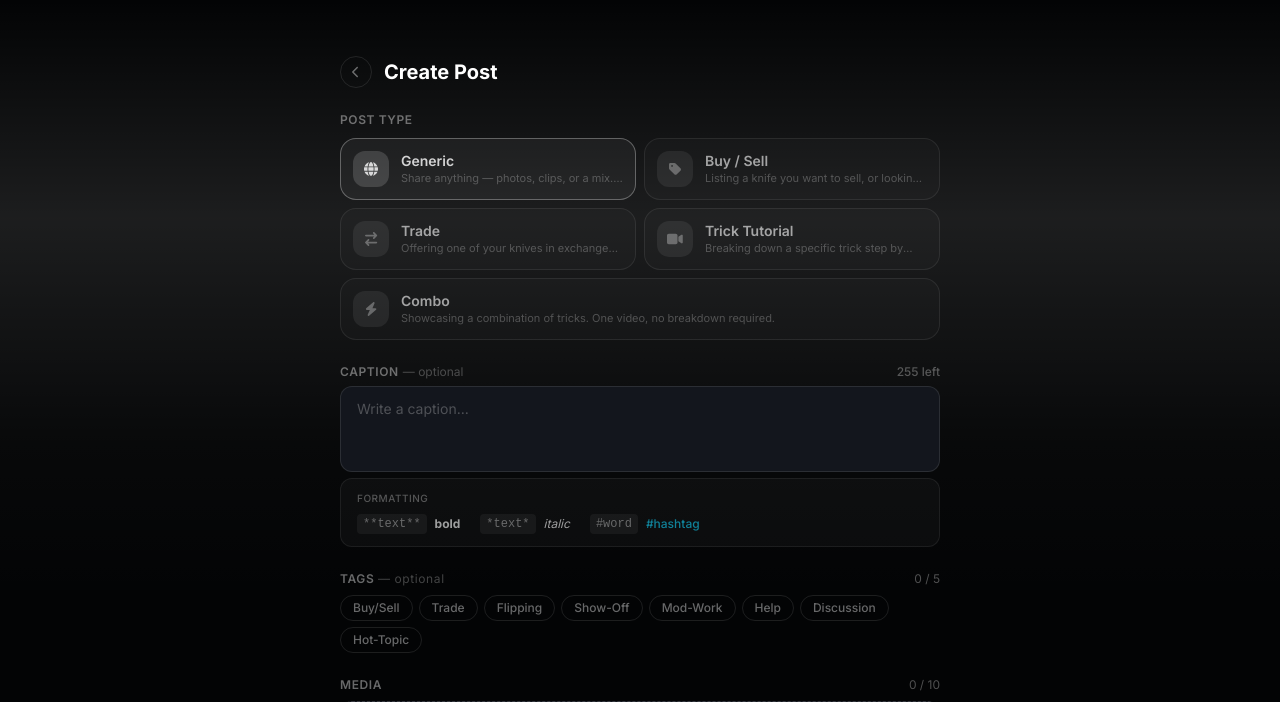
Test: CreatePostPage — layout selection › shows the Buying/Selling toggle for Buy / Sell
Click the button "Listing a knife you want to sell, or looking to buy one from the community.". click: x=792, y=169
box: [644,138,940,200]
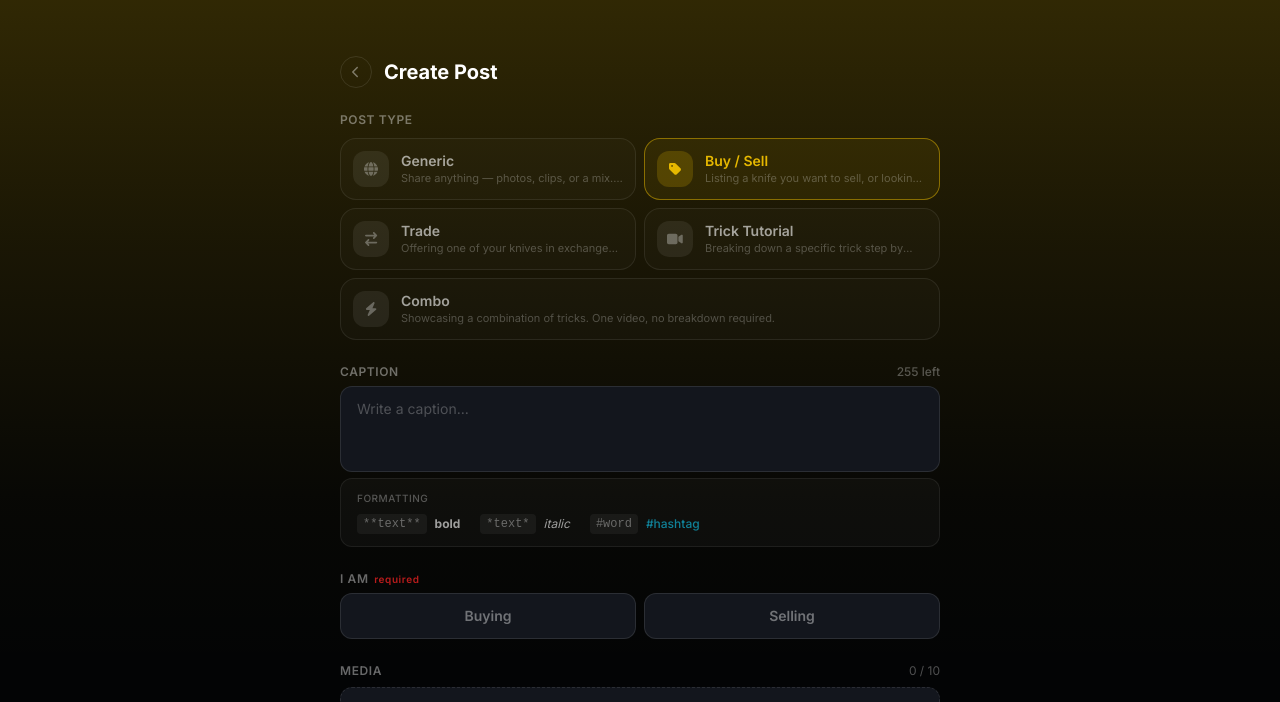
expect the button "Buying" is shown: met, box [340,593,636,639]
expect the button "Selling" is shown: met, box [644,593,940,639]
